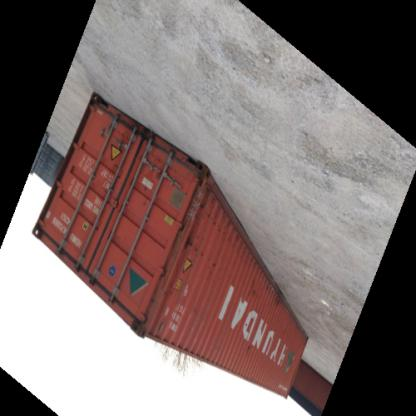Damage: (183, 236, 225, 278), (193, 202, 237, 228), (107, 140, 134, 180), (134, 182, 154, 209), (242, 286, 266, 304), (269, 289, 283, 313), (242, 347, 256, 359)
